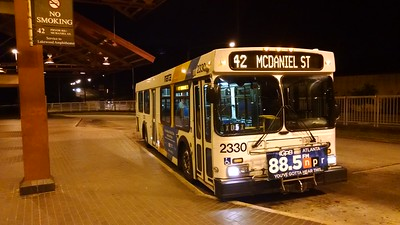bus: (136, 46, 348, 200)
